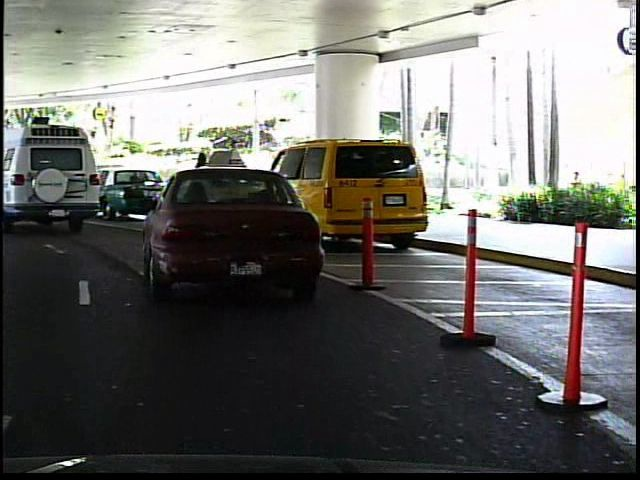person: (188, 146, 215, 214), (224, 143, 249, 211), (66, 152, 88, 199), (6, 158, 25, 197)
